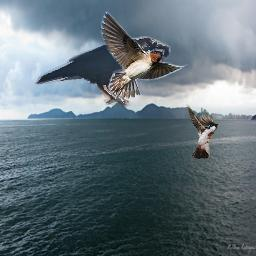Crow: (34, 36, 171, 107)
Swallow: (100, 11, 188, 101), (186, 104, 219, 159)
